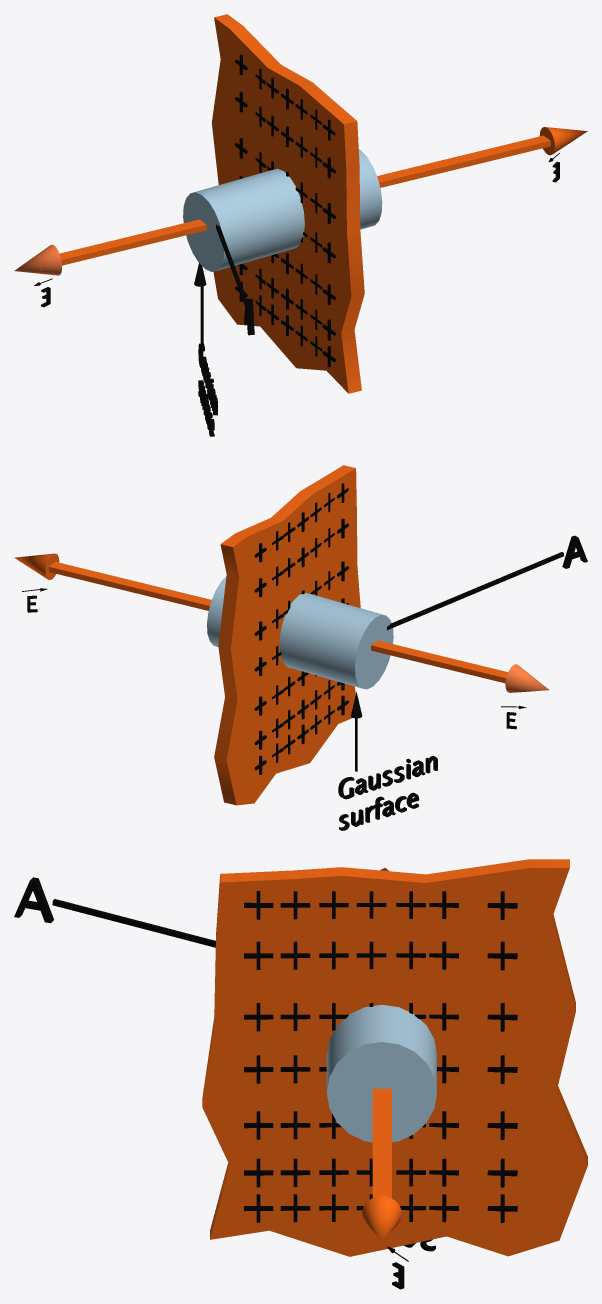
File: a_plane_of_change.glb
3 renders of one model, top to bottom at view 1: azimuth 30°, elevation 25°; view 2: azimuth 150°, elevation 25°; view 3: azimuth 270°, elevation 25°, orthographic. The views are drawn at different scales.
Parts seen in each view (by area): view 1: pCube1, pCylinder1, polySurface1, pCube2, typeMesh90, pCone2, pCone1; view 2: pCube1, pCylinder1, polySurface1, pCube2, typeMesh90, pCube3, pCone2, pCone1; view 3: pCube1, pCylinder1, polySurface1, pCube2, pCube3, pCone1, polySurface99.
Part boxes in pixels (x1,y1,x2,y2): pCube1: (211,14,364,393); pCylinder1: (183,149,382,271); polySurface1: (235,54,335,367); pCube2: (40,135,550,270); typeMesh90: (198,343,217,436); pCone2: (14,244,62,275); pCone1: (539,127,587,155); pCube1: (214,465,360,805); pCylinder1: (207,576,393,689); polySurface1: (254,483,348,774); pCube2: (49,562,507,683); typeMesh90: (338,756,437,830); pCube3: (387,552,563,630); pCone2: (505,664,549,692); pCone1: (14,553,59,579); pCube1: (202,859,587,1256); pCylinder1: (326,1004,436,1142); polySurface1: (244,891,517,1222); pCube2: (372,1088,391,1198); pCube3: (52,899,215,947); pCone1: (361,1196,401,1240); polySurface99: (14,877,53,923).
Size of the model in its own units: 0.2206 by 0.1193 by 0.1431.
